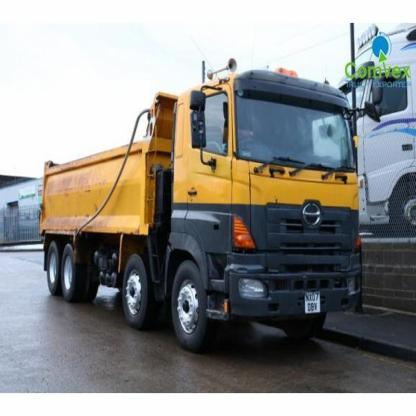dump_truck: (28, 58, 367, 347)
